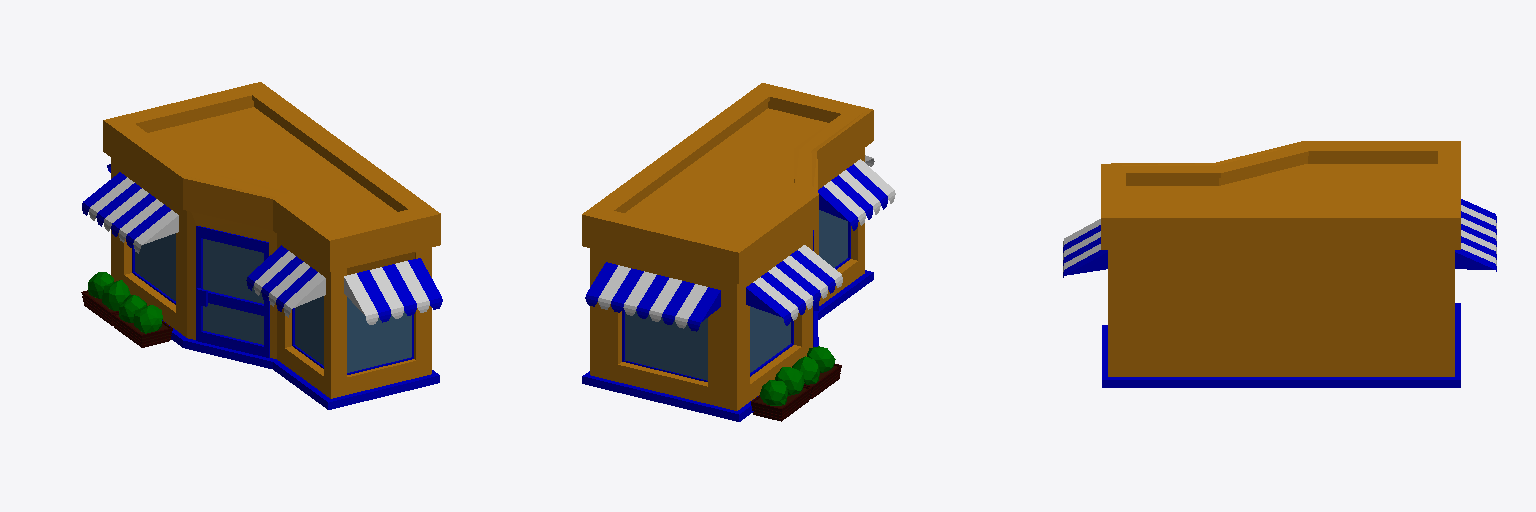
Rendered from casa.obj.
3 renders of one model, left to right at view 1: azimuth 30°, elevation 25°; view 2: azimuth 150°, elevation 25°; view 3: azimuth 270°, elevation 25°, orthographic.
Visible parts, largest first — view 1: casa_base, tetto, porta, tenda_frontale_facciata_dx, tenda_frontale, finestra_facciata_dx, tenda_frontale_piccola, base.001, finestra_frontale_sx, finestra_dx, vaso_rettangolare_sx_3.002, Icosphere.002 (+1 smaller); view 2: casa_base, tetto, tenda_frontale.001, finestra_sx, tenda_frontale, tenda_frontale_piccola, base.001, finestra_frontale_sx, finestra_dx, vaso_rettangolare_sx_3, Icosphere.003, Icosphere; view 3: casa_base, tetto, base.001, tenda_frontale.001, tenda_frontale_facciata_dx.
Part boxes in pixels (bbox=[...]): casa_base: bbox=[103, 82, 440, 398]; tetto: bbox=[148, 107, 396, 226]; porta: bbox=[196, 226, 269, 357]; tenda_frontale_facciata_dx: bbox=[344, 258, 442, 324]; tenda_frontale: bbox=[82, 172, 178, 253]; finestra_facciata_dx: bbox=[347, 297, 413, 374]; tenda_frontale_piccola: bbox=[246, 245, 325, 317]; base.001: bbox=[162, 320, 439, 409]; finestra_frontale_sx: bbox=[132, 233, 175, 304]; finestra_dx: bbox=[292, 296, 323, 368]; vaso_rettangolare_sx_3.002: bbox=[112, 313, 172, 347]; Icosphere.002: bbox=[133, 305, 162, 333]; casa_base: bbox=[582, 83, 873, 410]; tetto: bbox=[625, 108, 828, 239]; tenda_frontale.001: bbox=[585, 262, 720, 331]; finestra_sx: bbox=[622, 308, 707, 381]; tenda_frontale: bbox=[746, 245, 842, 325]; tenda_frontale_piccola: bbox=[818, 159, 895, 230]; base.001: bbox=[582, 270, 873, 421]; finestra_frontale_sx: bbox=[750, 306, 793, 376]; finestra_dx: bbox=[819, 210, 850, 269]; vaso_rettangolare_sx_3: bbox=[751, 386, 811, 421]; Icosphere.003: bbox=[760, 380, 787, 405]; Icosphere: bbox=[775, 367, 804, 395]; casa_base: bbox=[1101, 141, 1460, 376]; tetto: bbox=[1126, 164, 1437, 207]; base.001: bbox=[1102, 303, 1460, 387]; tenda_frontale.001: bbox=[1455, 199, 1496, 271]; tenda_frontale_facciata_dx: bbox=[1063, 219, 1107, 277].
Size of the model in its own units: 3.89 by 3.31 by 7.67.